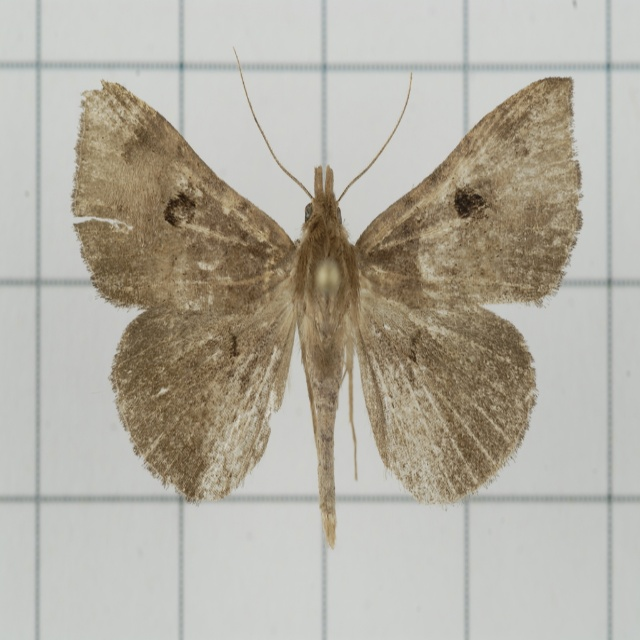Butterfly: (65, 46, 595, 548)
